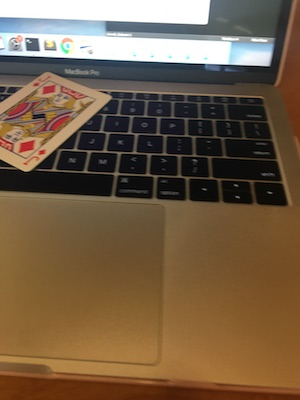JackOfDiamonds: (1, 68, 113, 174)
